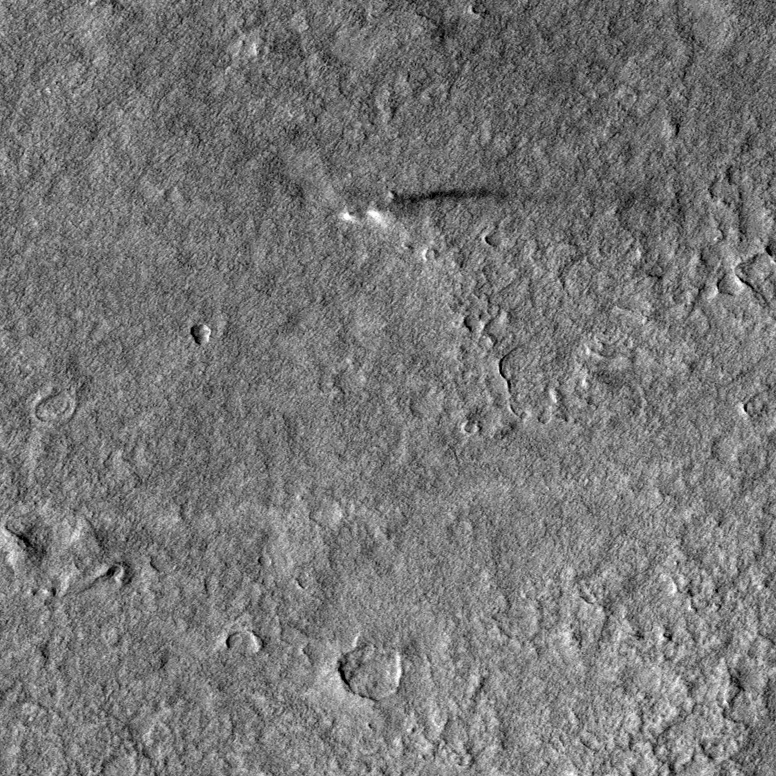dust_devil: (339, 184, 509, 230)
